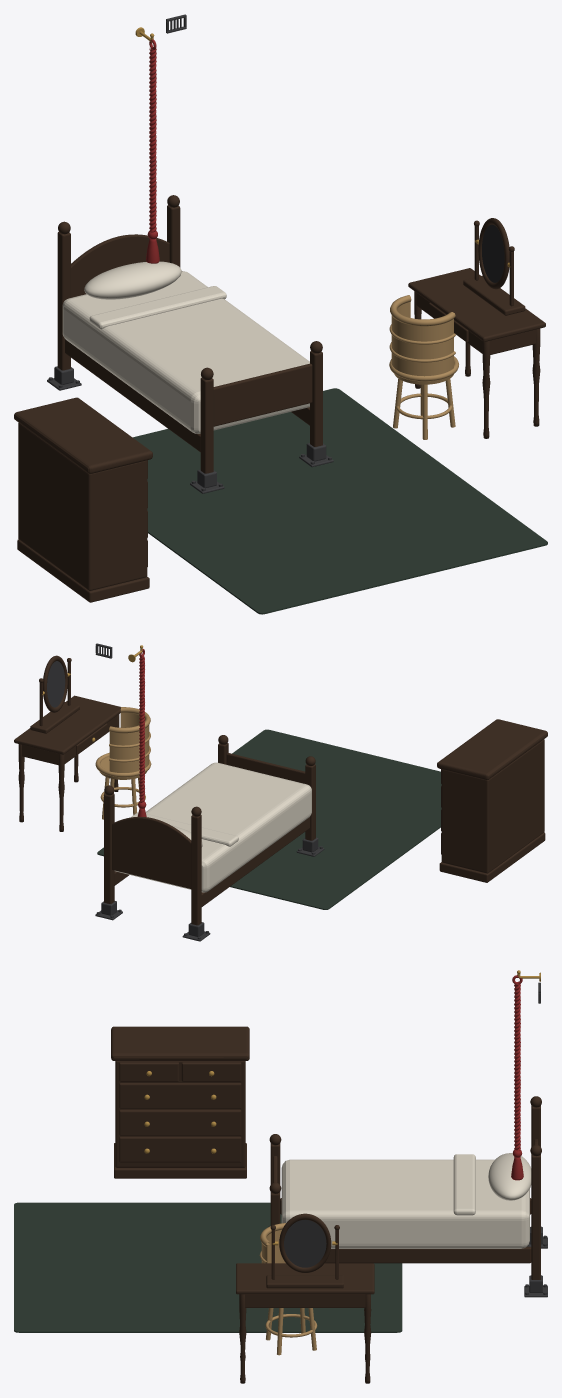
The model's file is bedroom.glb.
The picture shows the model from 3 angles, top to bottom: view 1: azimuth 30°, elevation 25°; view 2: azimuth 150°, elevation 25°; view 3: azimuth 270°, elevation 25°; orthographic projection. The views are drawn at different scales.
Parts seen in each view (by area): view 1: rug, bed_counterpane, chest_carcass, chest_top, bed, dressing_table_top, bed_footboard, wicker_chair_back, bed_headboard, bed_pillow, bed_rail_left, bed_counterpane_fold (+8 smaller); view 2: rug, bed_counterpane, chest_carcass, bed_headboard, chest_top, bed, dressing_table_top, wicker_chair_back, bed_rail_left, dressing_table, chest_plinth, bed_footboard (+8 smaller); view 3: rug, bed_counterpane, chest_top, chest_drawer_4, chest_drawer_3, chest_drawer_2, dressing_table_top, bed_rail_right, bed, chest_carcass, dressing_table_apron, mirror_glass (+10 smaller).
Boxes of the visible parts, box(x1,y1,x2,y2) form: rug: box(133, 388, 547, 614); bed_counterpane: box(62, 271, 309, 433); chest_carcass: box(18, 422, 147, 590); chest_top: box(14, 397, 152, 473); bed: box(57, 195, 322, 473); dressing_table_top: box(408, 268, 545, 341); bed_footboard: box(213, 363, 312, 426); wicker_chair_back: box(391, 302, 453, 376); bed_headboard: box(71, 234, 169, 297); bed_pillow: box(84, 261, 181, 299); bed_rail_left: box(65, 339, 200, 451); bed_counterpane_fold: box(89, 286, 226, 329); rug: box(97, 729, 441, 909); bed_counterpane: box(114, 762, 311, 892); chest_carcass: box(441, 739, 544, 873); bed_headboard: box(112, 816, 191, 888); chest_top: box(437, 719, 547, 779); bed: box(104, 735, 315, 925); dressing_table_top: box(14, 695, 120, 754); wicker_chair_back: box(109, 709, 149, 772); bed_rail_left: box(201, 817, 309, 906); dressing_table: box(18, 714, 119, 831); chest_plinth: box(439, 832, 545, 882); bed_footboard: box(226, 753, 305, 783); rug: box(14, 1202, 402, 1332); bed_counterpane: box(281, 1159, 529, 1248); chest_top: box(111, 1026, 249, 1060); chest_drawer_4: box(119, 1136, 241, 1162); chest_drawer_3: box(119, 1109, 241, 1135); chest_drawer_2: box(119, 1083, 241, 1108); dressing_table_top: box(236, 1263, 374, 1294); bed_rail_right: box(325, 1246, 531, 1263); bed: box(269, 1096, 541, 1279); chest_carcass: box(115, 1061, 245, 1167); dressing_table_apron: box(245, 1294, 365, 1307); mirror_glass: box(284, 1219, 326, 1267).
Size of the model in its own units: 4 by 2.46 by 3.85.
